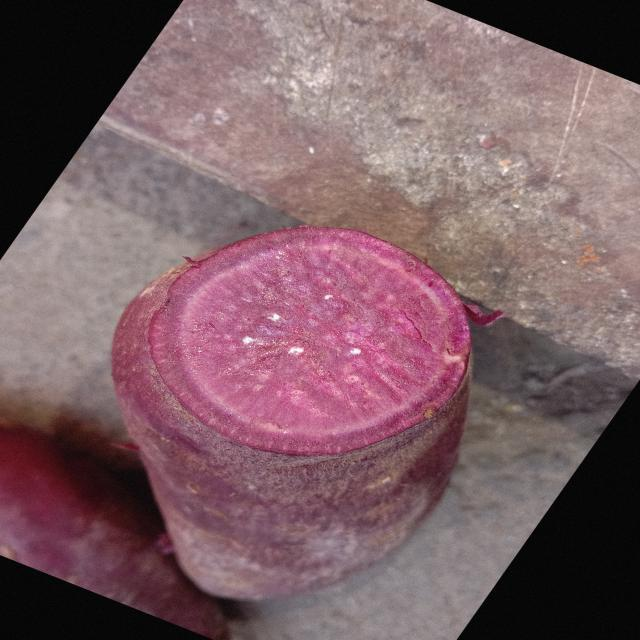Healthy Sweet Potato: (150, 228, 470, 455)
